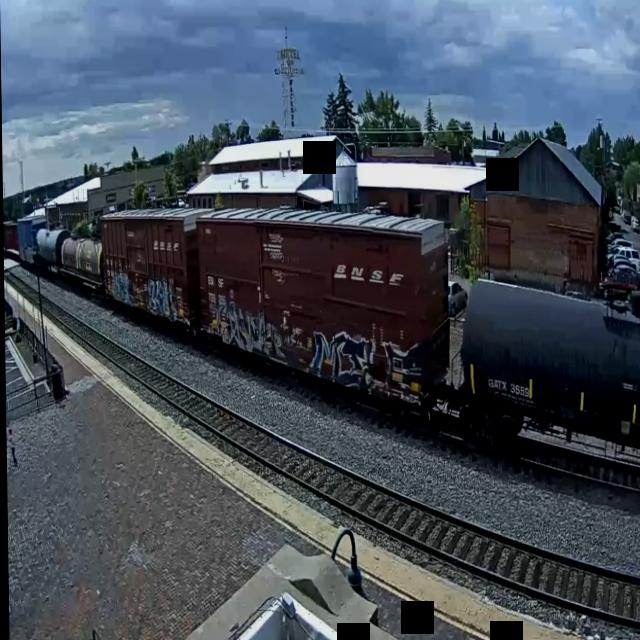boxcar: (194, 204, 457, 438), (95, 199, 200, 337)
tank: (452, 262, 640, 480)
